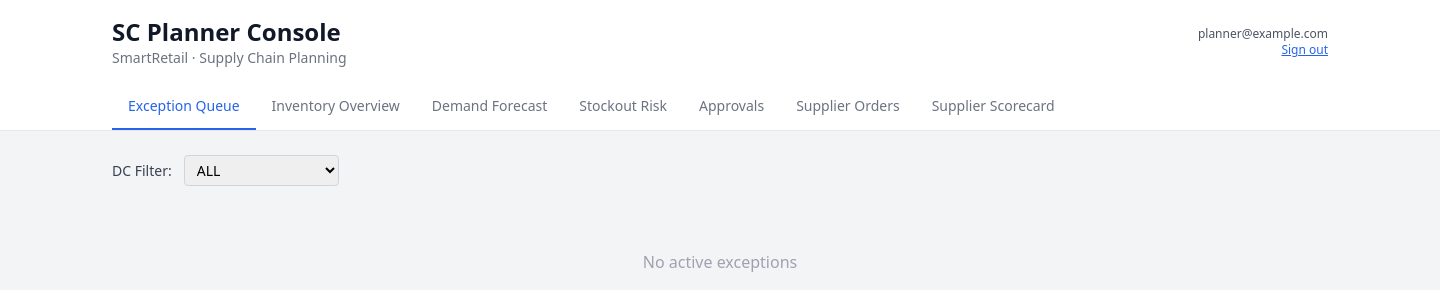
Test: ScPlannerConsole › switches to Inventory Overview tab on click
Click the button "Inventory Overview": (336, 107) [256,84,416,130]
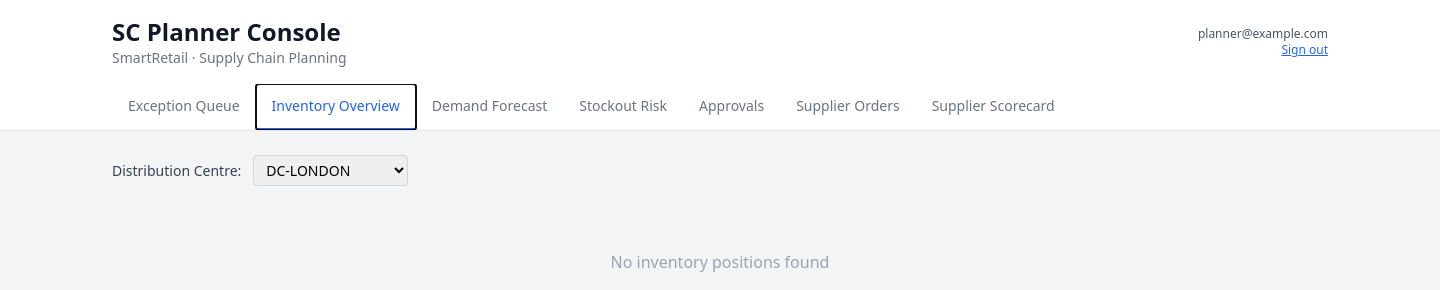
Now the text "No inventory positions found" is shown, box [611,251,830,273]
